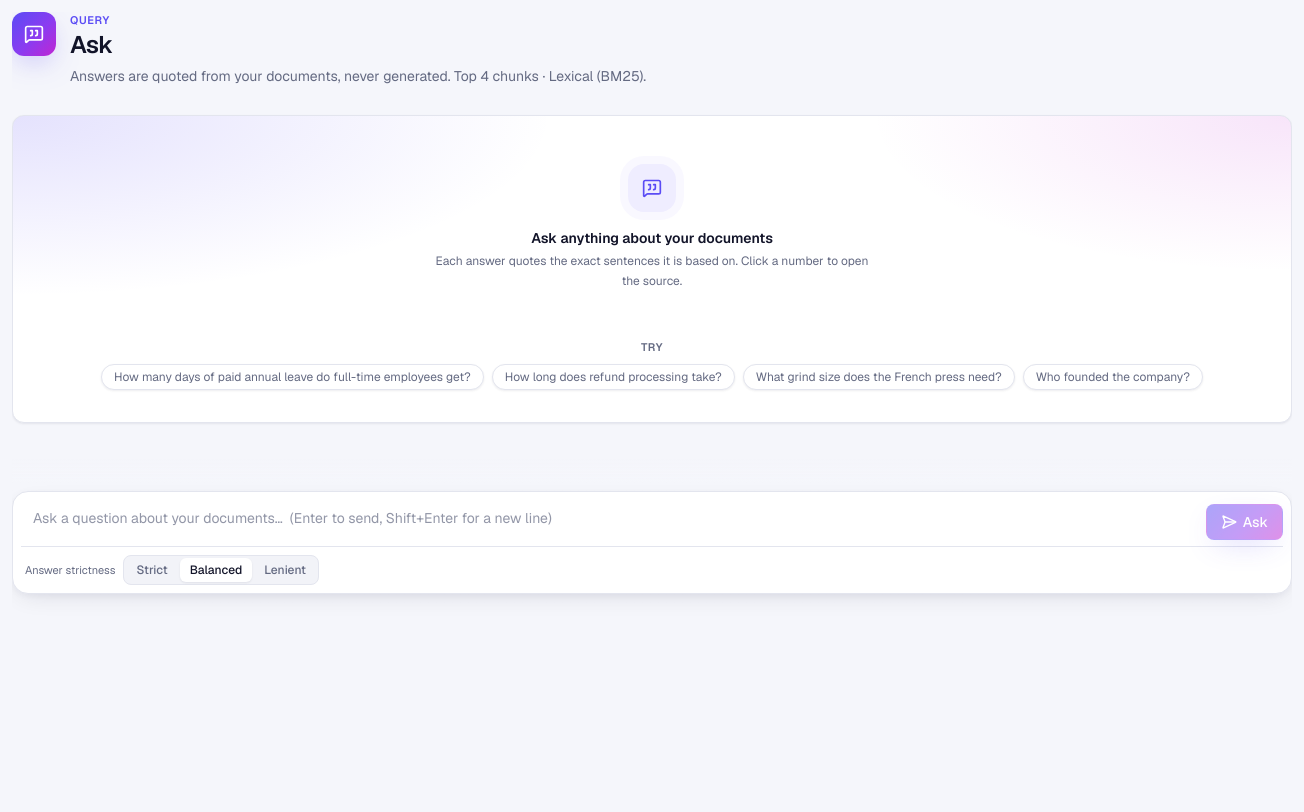
Test case: AskView › declines unsupported questions instead of guessing
The image size is (1304, 812).
Expected: the heading "Ask" is shown, [70,28,113,60]
Click the button "Who founded the company?" at point(1113, 377), box [1023,364,1203,390]
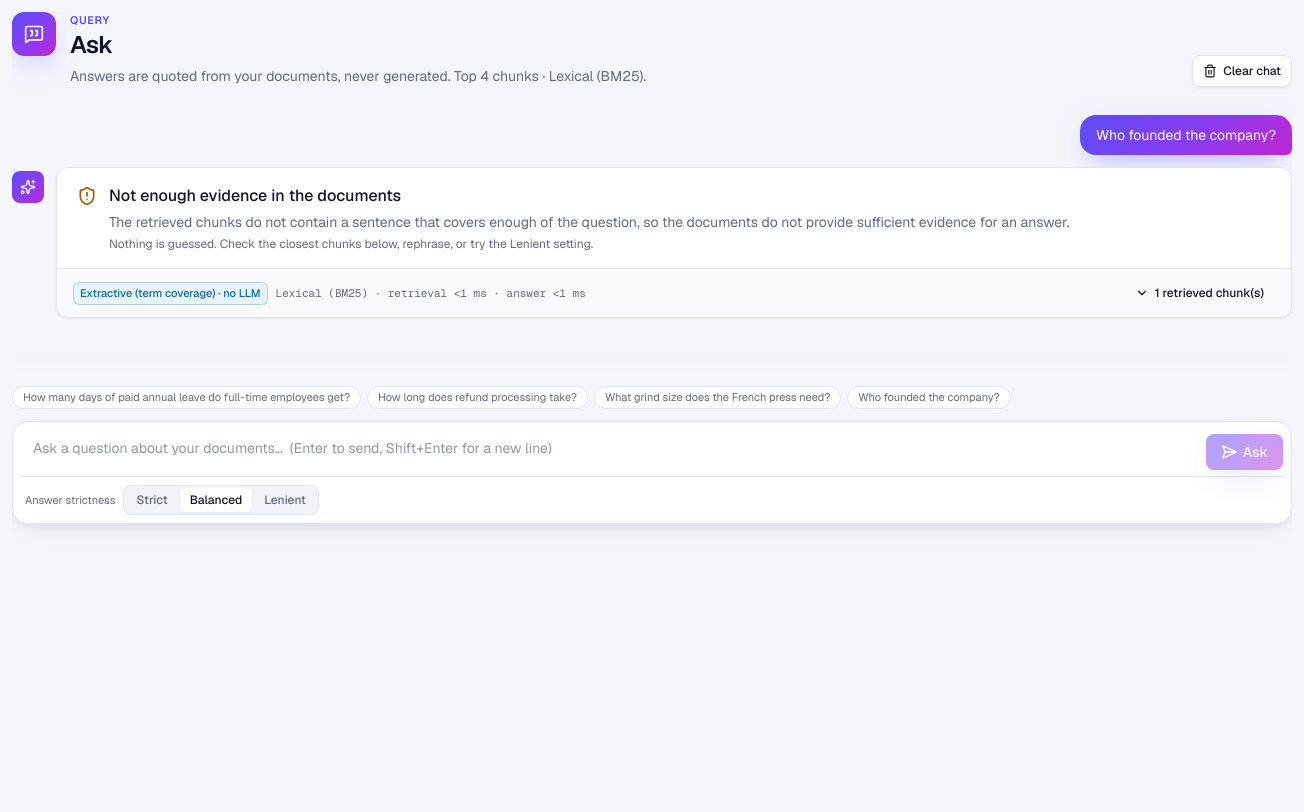
Result: the element with test id "insufficient-evidence" shows "Not enough evidence" at [109,185,401,206]
